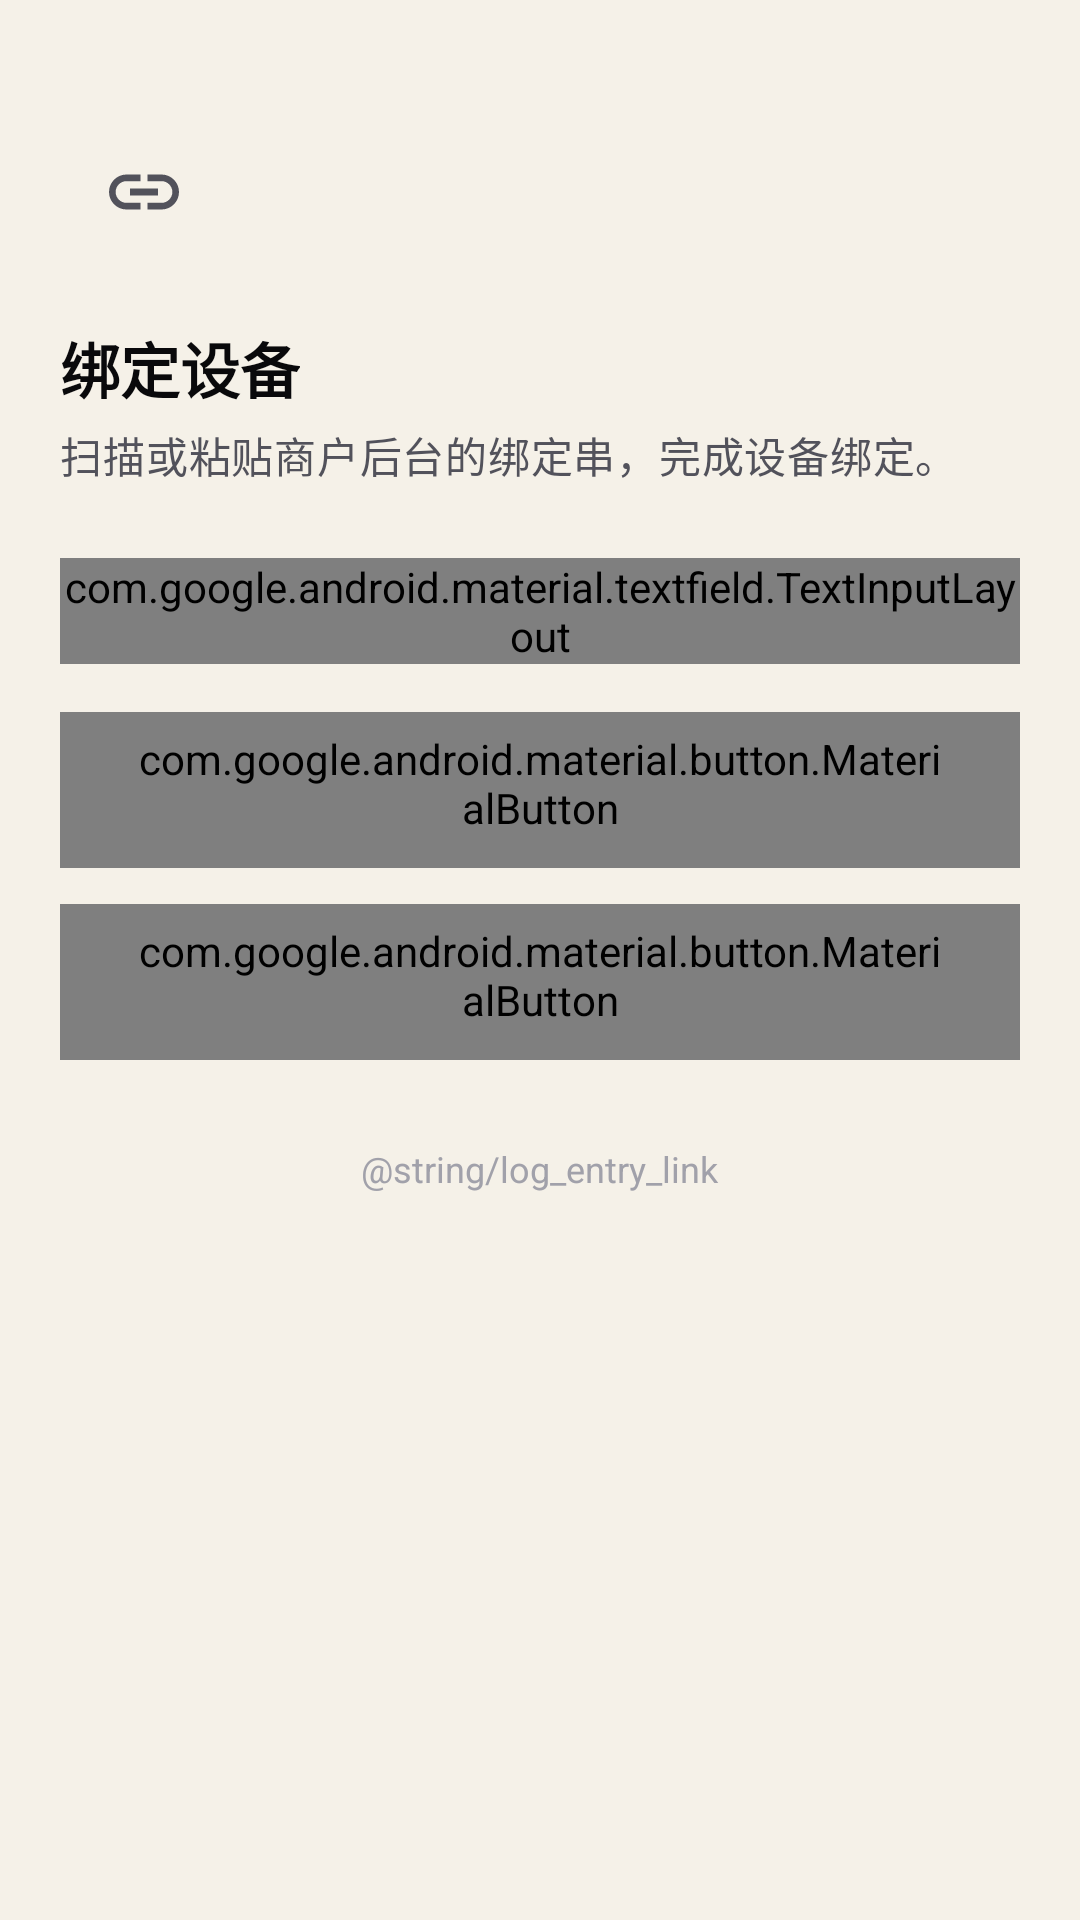

Screen size 1080 x 1920. Icon name, then its center in pixels as (x,y):
link: (144,192)
